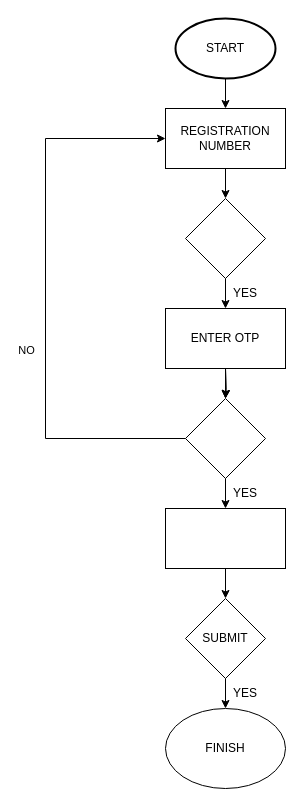
Image size: 303x806. Some labels were removed from this diagram. The centre of each missing label's shape, as x and y in pixels:
"REQUEST OTP" belongs at pixel 225 238.
"SELECT A CANDIDATE" belongs at pixel 225 538.
"VERIFY" belongs at pixel 225 438.
